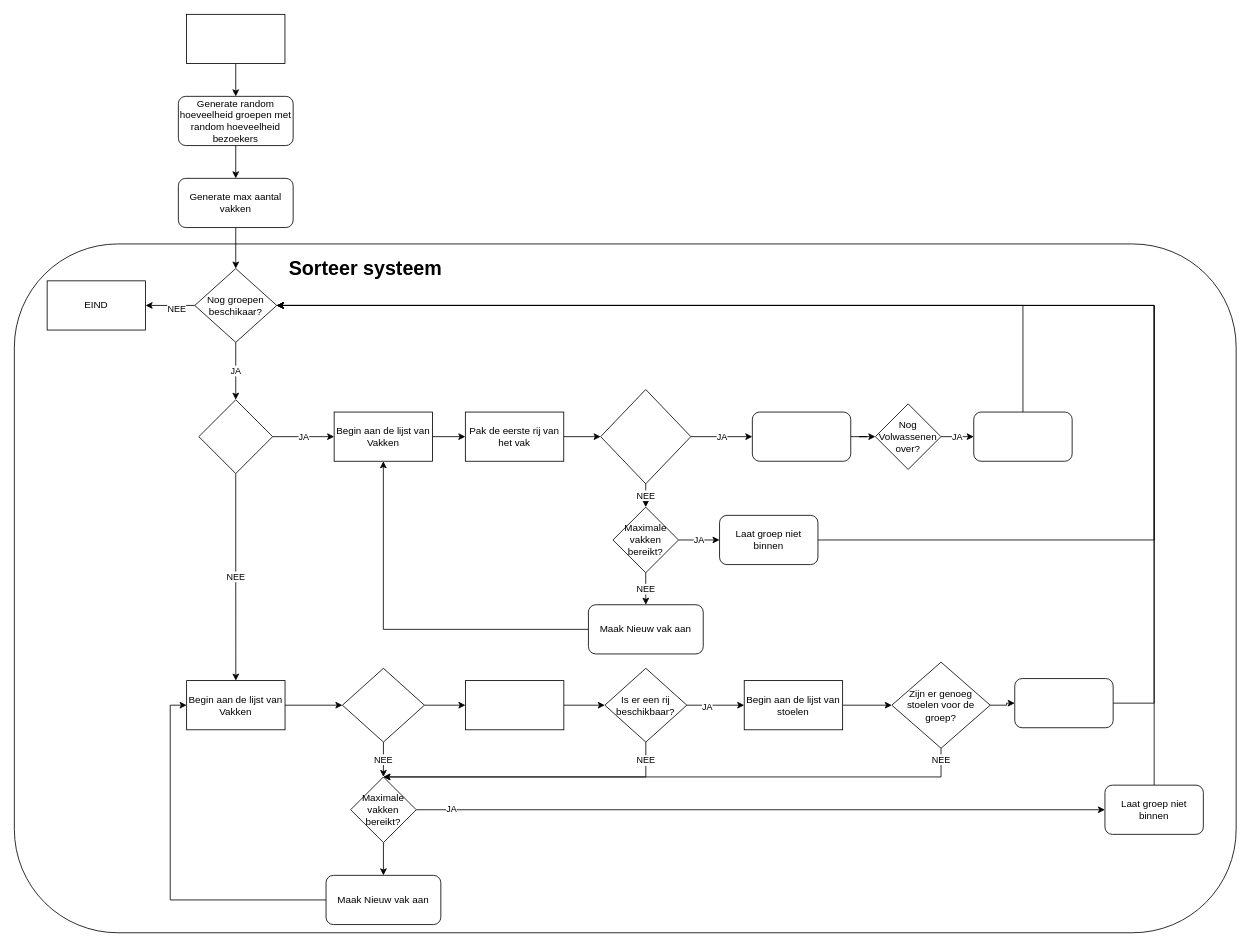
The diagram is 1251 pixels wide and 947 high, and some of its shapes have lost their labels. Each missing label, with the centre of its shape:
Begin aan de lijst van Rijen: [514,705]
Ga naar de volgende rij en zet ze daar in.: [1022,436]
genoeg plek voor alle kinderen en een volwassene?: [645,436]
Groep met kinderen?: [235,436]
Is er een Vak beschikbaar?: [383,704]
START: [235,39]
Zet bezoekers op beschikbare stoelen: [1063,703]
Zet kind(eren) en volwassenen in de eerste rij: [801,436]
